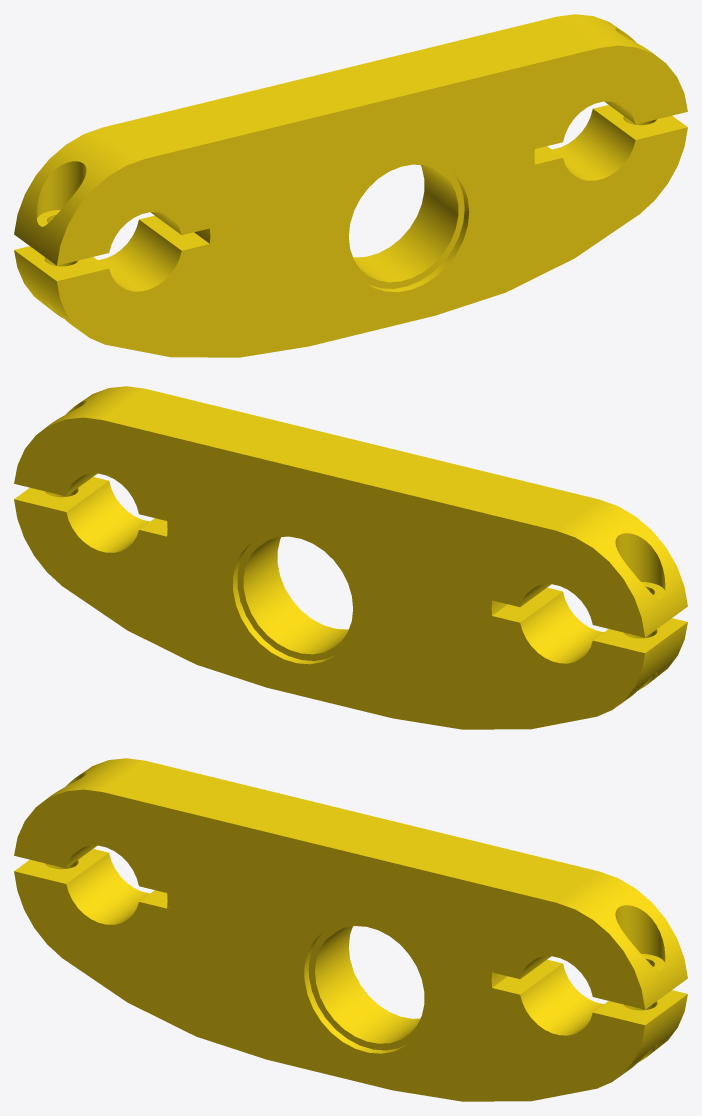
The model's file is A_H_9_Double_Sided_Flat_Shaft_Collar.gltf.
3 views of the same model, one above another, from view 1: azimuth 30°, elevation 25°; view 2: azimuth 150°, elevation 25°; view 3: azimuth 330°, elevation 25° (orthographic).
Parts seen in each view (by area): view 1: mesh32364, mesh32349, mesh32368, mesh32373, mesh32359, mesh32348, mesh32375, mesh32370, mesh32342, mesh32356, mesh32358, mesh32350 (+2 smaller); view 2: mesh32365, mesh32349, mesh32368, mesh32373, mesh32359, mesh32348, mesh32372, mesh32370, mesh32342, mesh32356, mesh32358, mesh32350 (+2 smaller); view 3: mesh32364, mesh32349, mesh32342, mesh32373, mesh32348, mesh32359, mesh32375, mesh32339, mesh32368, mesh32352, mesh32350, mesh32358 (+2 smaller).
Boxes of the visible parts, x1,y1,x2,y2 form: mesh32364: (57, 45, 687, 357); mesh32349: (103, 16, 598, 158); mesh32368: (14, 127, 144, 265); mesh32373: (353, 165, 458, 282); mesh32359: (98, 220, 181, 291); mesh32348: (552, 109, 635, 180); mesh32375: (347, 161, 464, 288); mesh32370: (36, 161, 86, 217); mesh32342: (557, 14, 662, 60); mesh32356: (14, 250, 86, 335); mesh32358: (14, 246, 108, 280); mesh32350: (593, 105, 687, 139); mesh32365: (14, 417, 644, 729); mesh32349: (103, 388, 598, 530); mesh32368: (557, 499, 687, 637); mesh32373: (243, 537, 348, 654); mesh32359: (520, 592, 603, 663); mesh32348: (66, 481, 149, 552); mesh32372: (237, 533, 354, 660); mesh32370: (615, 533, 665, 589); mesh32342: (39, 386, 144, 432); mesh32356: (615, 622, 687, 707); mesh32358: (593, 618, 687, 652); mesh32350: (14, 477, 108, 511); mesh32364: (14, 789, 644, 1101); mesh32349: (103, 760, 598, 902); mesh32342: (557, 871, 687, 1009); mesh32373: (315, 926, 419, 1043); mesh32348: (520, 964, 603, 1035); mesh32359: (66, 853, 149, 924); mesh32375: (308, 922, 426, 1050); mesh32339: (615, 905, 665, 961); mesh32368: (39, 758, 144, 804); mesh32352: (615, 994, 687, 1079); mesh32350: (593, 990, 687, 1024); mesh32358: (14, 849, 108, 883).
Bounding box in the file's own units: 0.0811 × 0.0279 × 0.00953.
